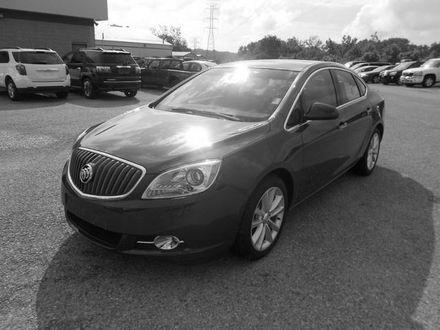car: (58, 59, 390, 264)
